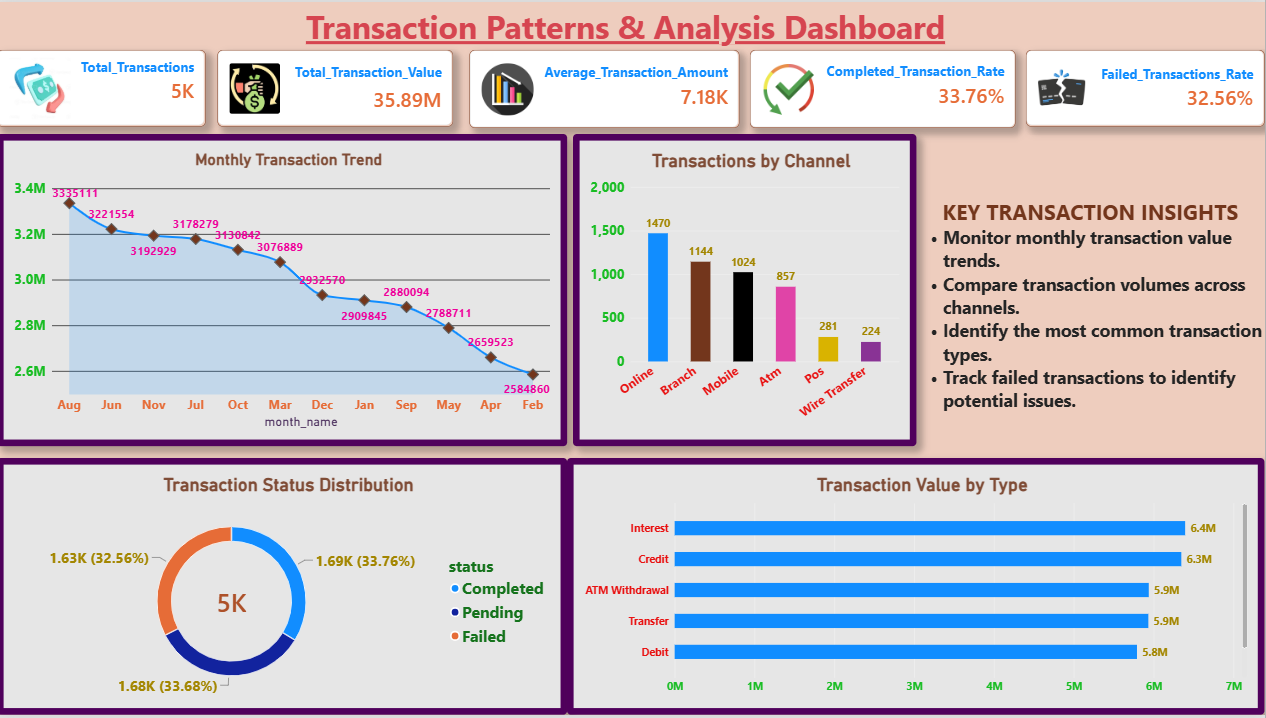

The dashboard page shown, as its layout file describes it:
{"tool":"powerbi","page":{"name":"Transaction Patterns","canvas":[1920,1080],"ordinal":3},"visuals":[{"type":"cardVisual","fields":{"Data":["transactions.Total_Transactions"]},"box":[0,72.7,315.7,115.8],"z":0},{"type":"cardVisual","fields":{"Data":["transactions.Total_Transaction_Value"]},"box":[333.9,72.7,356.6,115.8],"z":1000},{"type":"cardVisual","fields":{"Data":["transactions.Average_Transaction_Amount"]},"box":[715.5,72.7,408.8,118.1],"z":2000},{"type":"cardVisual","fields":{"Data":["transactions.Completed_Transaction_Rate"]},"box":[1140.2,72.7,402,118.1],"z":3000},{"type":"cardVisual","fields":{"Data":["transactions.Failed_Transactions_Rate"]},"box":[1558.1,72.7,361.1,115.8],"z":4000},{"type":"lineChart","title":" Monthly Transaction Trend","fields":{"Category":["transactions.month_name"],"Y":["transactions.Total_Transaction_Value"]},"box":[0,199.9,863.1,472.4],"z":5000},{"type":"donutChart","title":"Transaction Status Distribution","fields":{"Category":["transactions.status"],"Y":["Count(transactions.transaction_id)"]},"box":[0,690.5,863.1,388.4],"z":6000},{"type":"clusteredColumnChart","title":"Transactions by Channel","fields":{"Category":["transactions.channel"],"Y":["Count(transactions.transaction_id)"]},"box":[872.2,199.9,520.1,472.4],"z":7000},{"type":"clusteredBarChart","title":"Transaction Value by Type","fields":{"Category":["transactions.transaction_type"],"Y":["transactions.Total_Transaction_Value"]},"box":[863.1,690.5,1056.2,388.4],"z":8000},{"type":"textbox","box":[111.3,4.5,1680.8,68.1],"z":9000},{"type":"textbox","box":[1392.3,295.3,526.9,377],"z":10000}]}

Visuals, with their boxes in screenshot pixels (x1, y1, x2, y2), scaled from the page's 1920x1080 canvas onto the 1266x718 screenshot:
cardVisual - transactions.Total_Transactions: [0,48,208,125]
cardVisual - transactions.Total_Transaction_Value: [220,48,455,125]
cardVisual - transactions.Average_Transaction_Amount: [472,48,741,127]
cardVisual - transactions.Completed_Transaction_Rate: [752,48,1017,127]
cardVisual - transactions.Failed_Transactions_Rate: [1027,48,1265,125]
" Monthly Transaction Trend" lineChart: [0,133,569,447]
"Transaction Status Distribution" donutChart: [0,459,569,717]
"Transactions by Channel" clusteredColumnChart: [575,133,918,447]
"Transaction Value by Type" clusteredBarChart: [569,459,1265,717]
textbox: [73,3,1182,48]
textbox: [918,196,1265,447]
